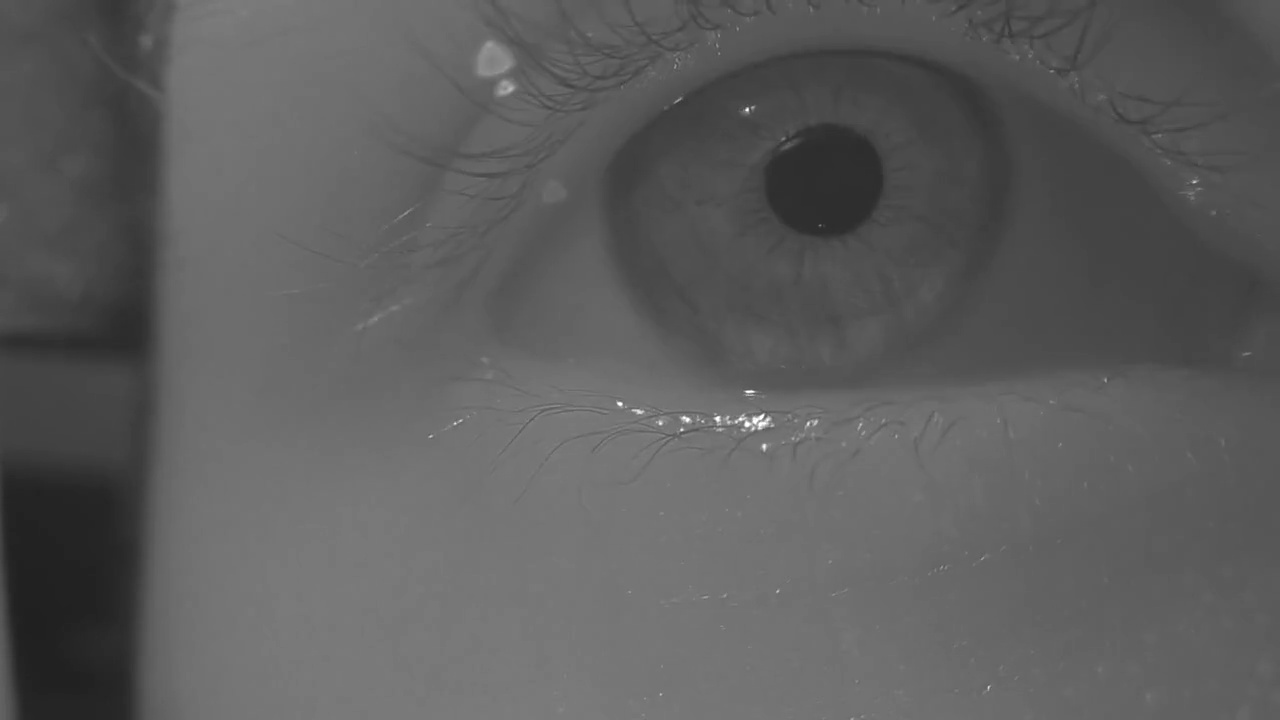pupil: (765, 125, 882, 235)
